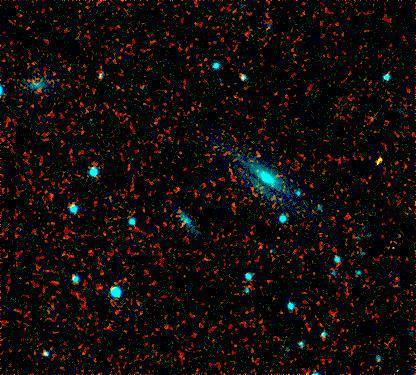star: (362, 149, 392, 179)
